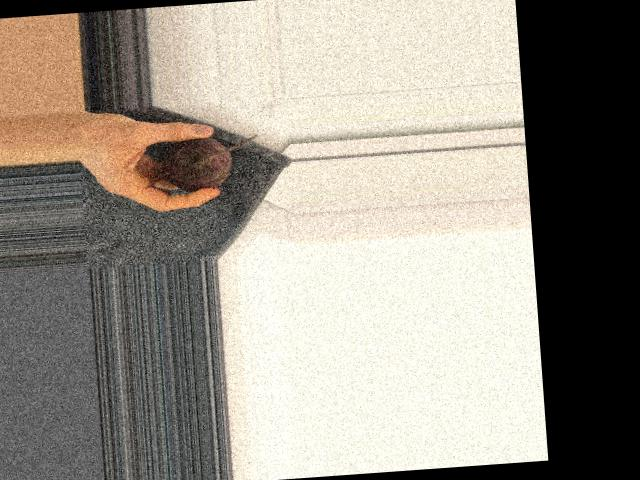beet: (161, 133, 262, 193)
